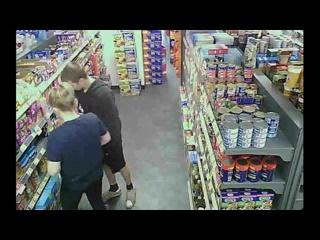shoplifting: (60, 63, 136, 208), (46, 83, 111, 210)
